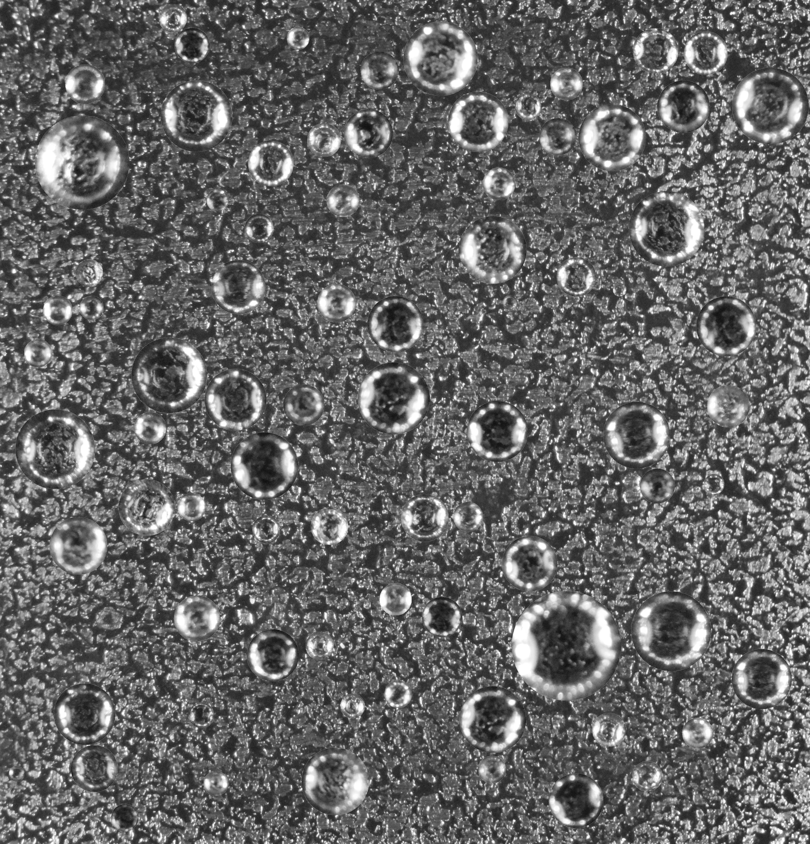Bubble: (511, 591, 621, 700), (35, 115, 129, 209), (631, 591, 711, 671), (15, 409, 94, 488), (732, 67, 808, 144), (131, 337, 206, 413), (629, 191, 704, 266), (403, 21, 477, 95), (357, 362, 429, 434), (160, 80, 232, 151), (230, 432, 298, 499), (301, 747, 368, 815), (603, 401, 670, 468), (459, 216, 526, 283), (578, 104, 645, 171), (459, 686, 526, 752), (204, 368, 266, 430), (53, 683, 115, 744), (696, 296, 756, 356), (731, 649, 791, 709), (448, 91, 508, 151), (467, 401, 527, 461), (49, 517, 107, 574), (118, 479, 174, 535), (367, 296, 423, 351), (548, 773, 603, 828), (502, 536, 557, 591), (211, 260, 265, 314), (657, 80, 709, 132), (246, 629, 298, 681), (344, 109, 392, 157), (401, 494, 448, 541), (70, 745, 117, 792), (174, 595, 219, 641), (248, 140, 293, 186), (633, 28, 678, 73), (684, 31, 727, 74), (707, 385, 749, 427), (283, 384, 324, 425), (422, 597, 462, 637), (556, 257, 596, 296), (65, 64, 104, 103), (360, 51, 398, 89), (317, 284, 355, 322), (310, 507, 348, 544), (539, 118, 576, 155), (174, 27, 209, 62), (640, 468, 674, 503), (482, 167, 515, 200), (307, 123, 340, 156), (592, 713, 625, 746), (326, 184, 359, 216), (550, 67, 582, 100), (134, 412, 166, 444), (379, 583, 411, 615), (682, 717, 713, 748), (632, 761, 662, 791), (453, 502, 482, 531), (244, 213, 273, 242), (43, 295, 72, 324), (158, 3, 186, 32), (177, 493, 205, 521), (305, 631, 333, 659), (252, 515, 280, 543), (478, 755, 505, 783), (24, 339, 51, 367), (111, 804, 138, 831), (75, 259, 102, 286), (384, 680, 411, 707), (514, 93, 541, 119), (188, 702, 213, 728), (203, 771, 228, 795), (340, 693, 364, 718), (79, 295, 103, 319), (286, 26, 309, 49), (206, 189, 228, 211), (704, 474, 724, 494), (8, 766, 24, 781), (502, 295, 517, 309), (613, 283, 626, 296)
